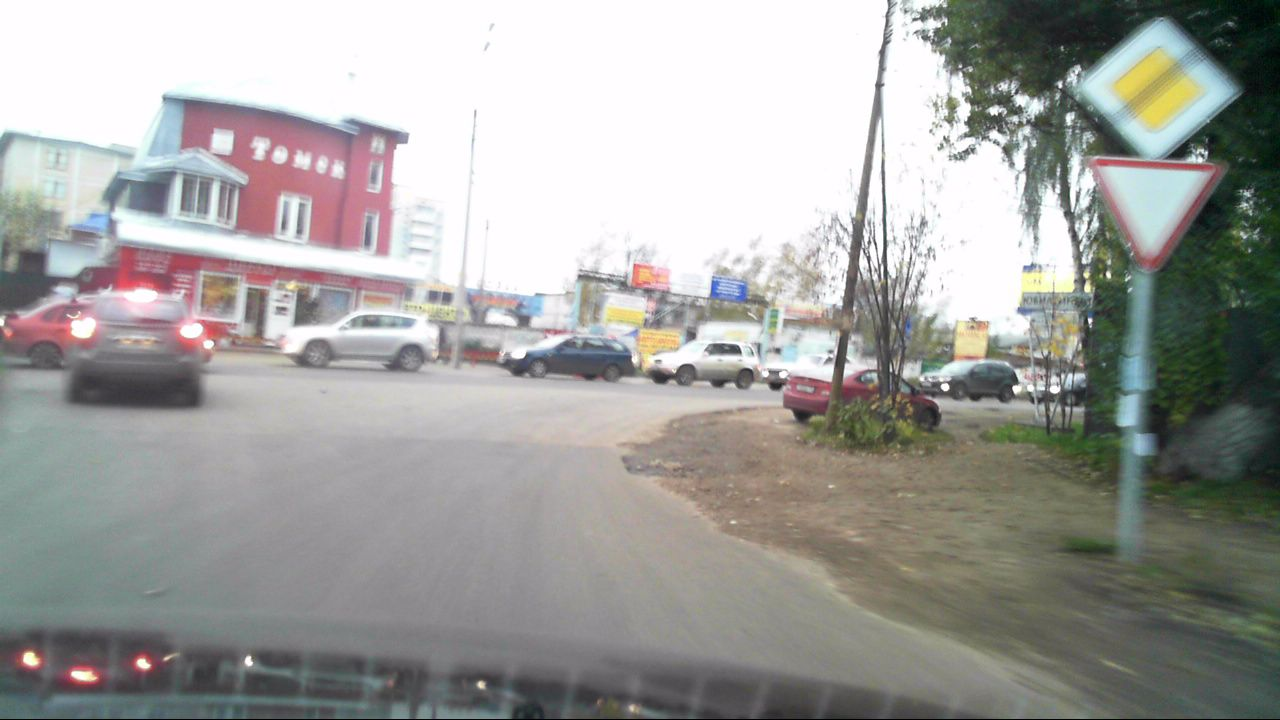main road: (1079, 18, 1241, 158)
